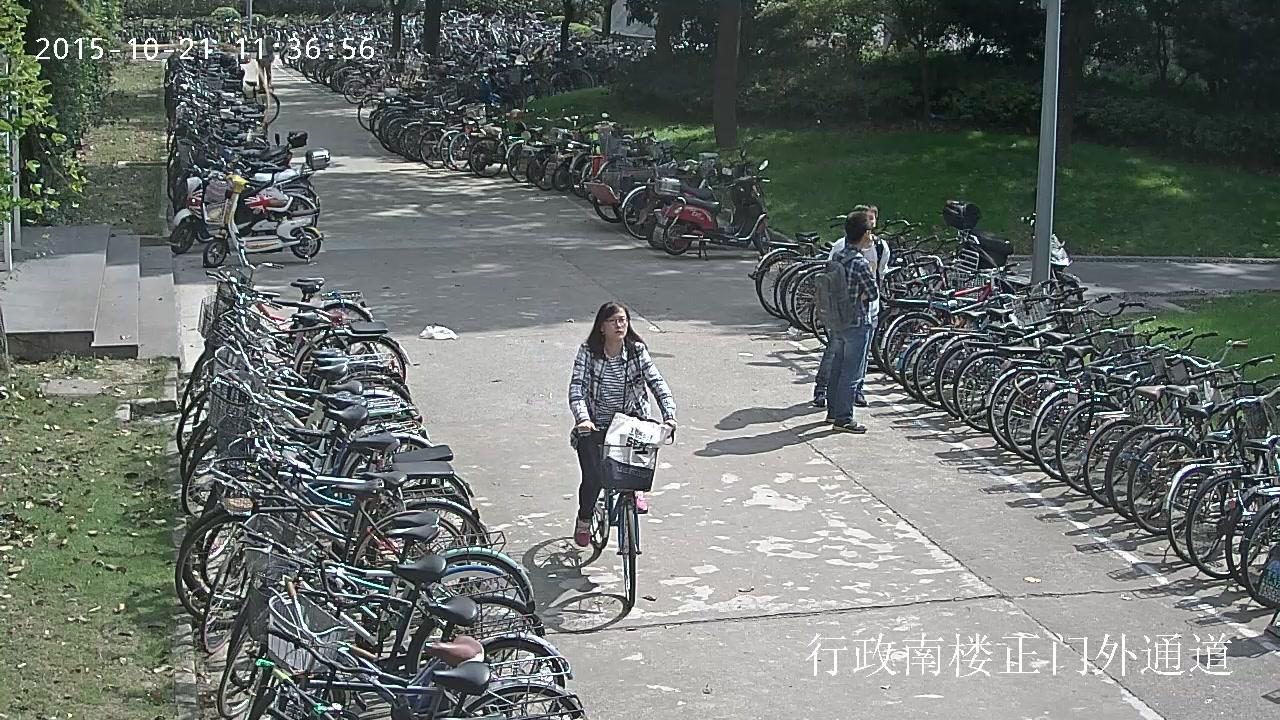face: (603, 309, 627, 339), (861, 209, 875, 227), (258, 27, 265, 36)
